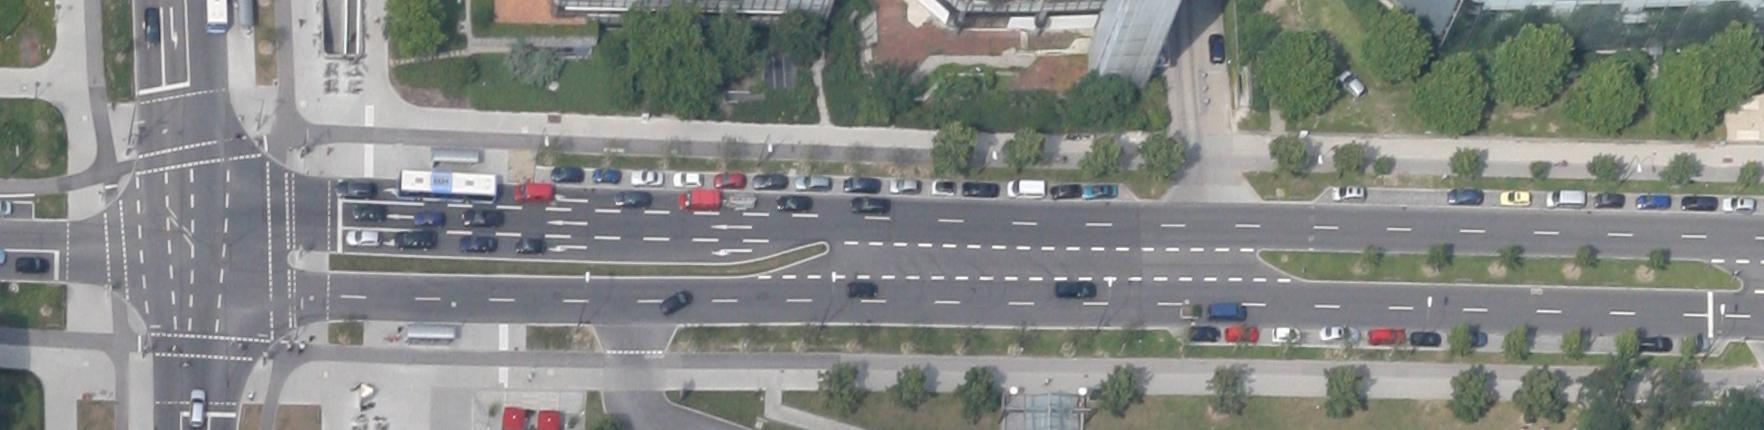car: (1335, 69, 1368, 99), (659, 289, 693, 316), (678, 188, 719, 209), (396, 230, 438, 250), (514, 182, 552, 204), (462, 208, 504, 227), (336, 179, 375, 199), (1547, 188, 1584, 208), (1055, 281, 1096, 299), (353, 201, 387, 223), (1207, 304, 1246, 322), (1008, 179, 1044, 198), (144, 8, 161, 47), (1320, 325, 1359, 342), (850, 197, 889, 214), (15, 257, 49, 275), (459, 235, 496, 252), (189, 388, 205, 428), (614, 190, 650, 207), (1368, 328, 1404, 344), (345, 230, 380, 247), (777, 196, 812, 213), (1635, 194, 1669, 210), (1446, 188, 1483, 204), (962, 181, 999, 197), (795, 174, 829, 191), (1681, 195, 1717, 210), (844, 177, 880, 192), (551, 165, 583, 183), (630, 169, 663, 186), (514, 238, 546, 254), (1640, 335, 1672, 352), (1082, 183, 1116, 199), (1271, 325, 1300, 343), (1225, 326, 1258, 342), (1331, 186, 1363, 201), (1208, 34, 1225, 64), (1500, 189, 1530, 206), (714, 171, 745, 188), (847, 281, 877, 298), (753, 174, 787, 189), (674, 170, 702, 188), (1410, 330, 1441, 346), (1722, 196, 1754, 212), (1189, 325, 1219, 341), (1593, 192, 1623, 208), (414, 210, 442, 227), (1051, 183, 1080, 199), (889, 178, 919, 192), (727, 195, 755, 210), (593, 168, 620, 183), (931, 179, 954, 196), (1180, 305, 1201, 320)
